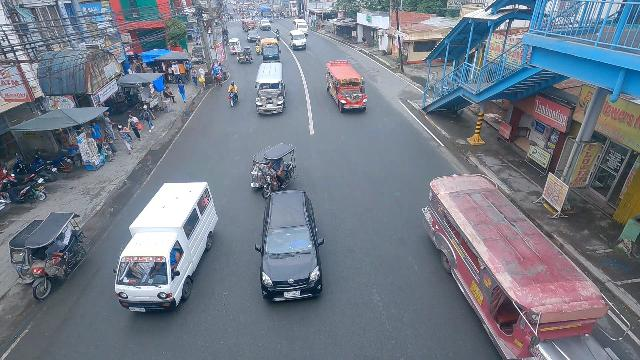car: (256, 190, 323, 305), (246, 29, 260, 43)
jeepney: (421, 172, 625, 360), (325, 59, 368, 114), (254, 60, 284, 117), (241, 18, 256, 32)
motorcycle: (226, 85, 240, 108), (255, 40, 262, 55), (274, 27, 281, 41), (222, 28, 229, 42)
pickup-truck: (257, 19, 272, 31)
truck: (260, 38, 282, 66)
van: (112, 182, 219, 314), (289, 30, 307, 50), (292, 18, 308, 37)
